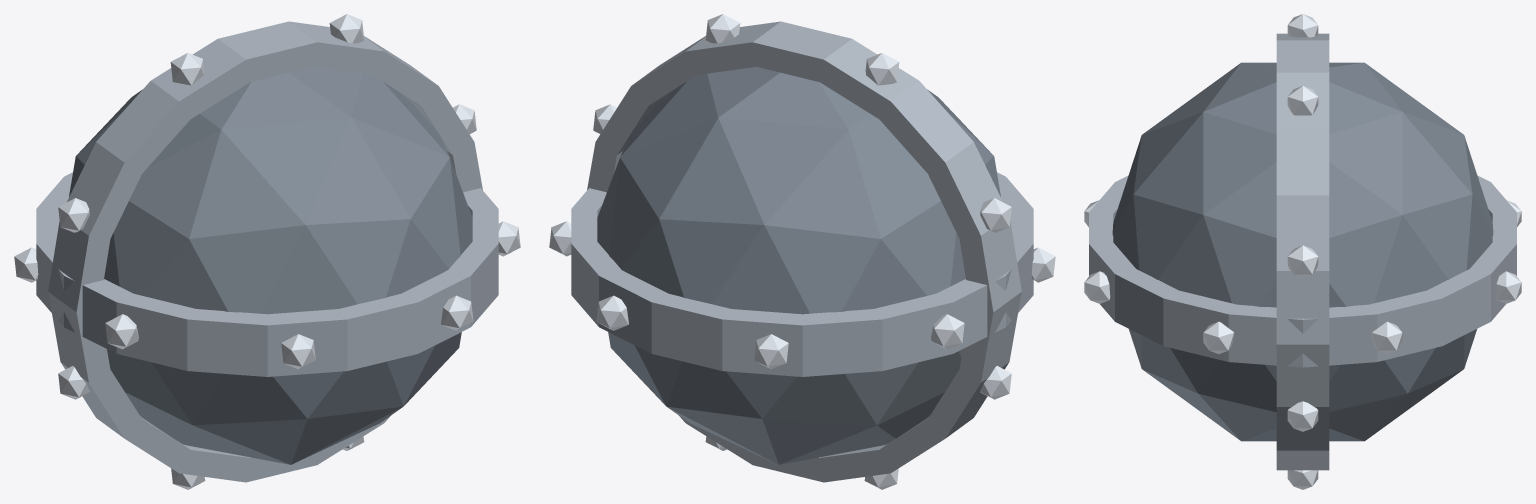
Rendered from IronSphere.glb.
3 renders of one model, left to right at view 1: azimuth 30°, elevation 25°; view 2: azimuth 150°, elevation 25°; view 3: azimuth 270°, elevation 25°, orthographic. The views are drawn at different scales.
Visible parts, largest first — view 1: IronSphere; view 2: IronSphere; view 3: IronSphere.
Part boxes in pixels (bbox=[...]): IronSphere: bbox=[14, 14, 520, 489]; IronSphere: bbox=[549, 14, 1055, 489]; IronSphere: bbox=[1084, 14, 1521, 489].
Size of the model in its own units: 1.18 by 1.19 by 1.16.
